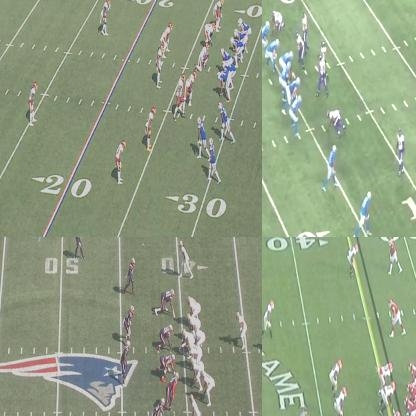CENTER: (180, 333, 192, 359), (220, 47, 233, 69), (280, 51, 294, 71), (403, 395, 415, 415)
DB: (262, 301, 274, 336), (117, 138, 126, 182), (101, 0, 112, 33), (28, 81, 36, 122), (396, 130, 404, 170), (347, 245, 357, 277), (148, 110, 154, 150), (152, 398, 164, 415), (76, 237, 84, 258)
LB: (166, 372, 179, 406), (123, 306, 135, 341), (331, 359, 342, 396), (155, 45, 164, 89), (334, 387, 348, 415), (119, 341, 129, 380), (127, 257, 137, 293), (162, 22, 172, 53), (216, 0, 226, 27), (300, 13, 309, 36), (320, 41, 329, 58)
QB: (193, 324, 206, 345)
SKILL: (359, 191, 373, 234), (218, 102, 232, 144), (199, 369, 215, 405), (180, 241, 193, 281), (326, 146, 338, 189), (236, 311, 248, 350), (209, 137, 219, 182), (196, 118, 207, 158), (388, 300, 400, 336), (292, 96, 302, 134), (388, 239, 398, 274), (238, 14, 251, 38), (191, 396, 206, 415)
